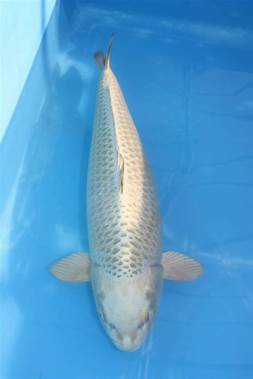white: (47, 33, 205, 352)
